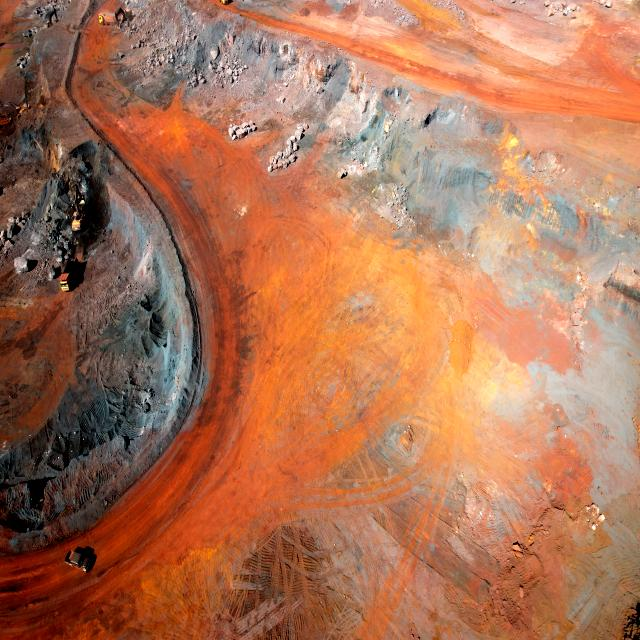Dumper truck: (62, 253, 79, 293), (100, 12, 116, 26), (0, 114, 13, 128)
Excavator: (72, 184, 86, 231), (0, 97, 31, 116), (114, 6, 132, 26), (42, 6, 58, 26)
car: (66, 550, 92, 570)
